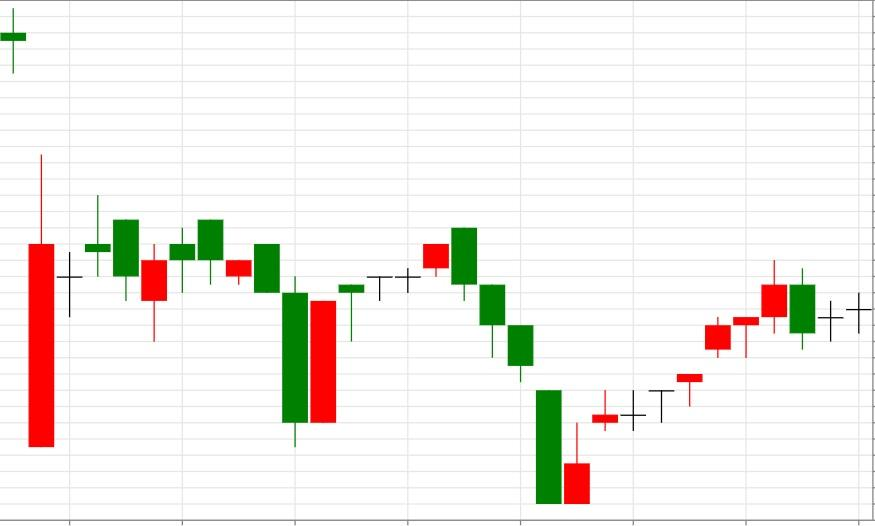three_black_crows_fall: (282, 227, 533, 447)
